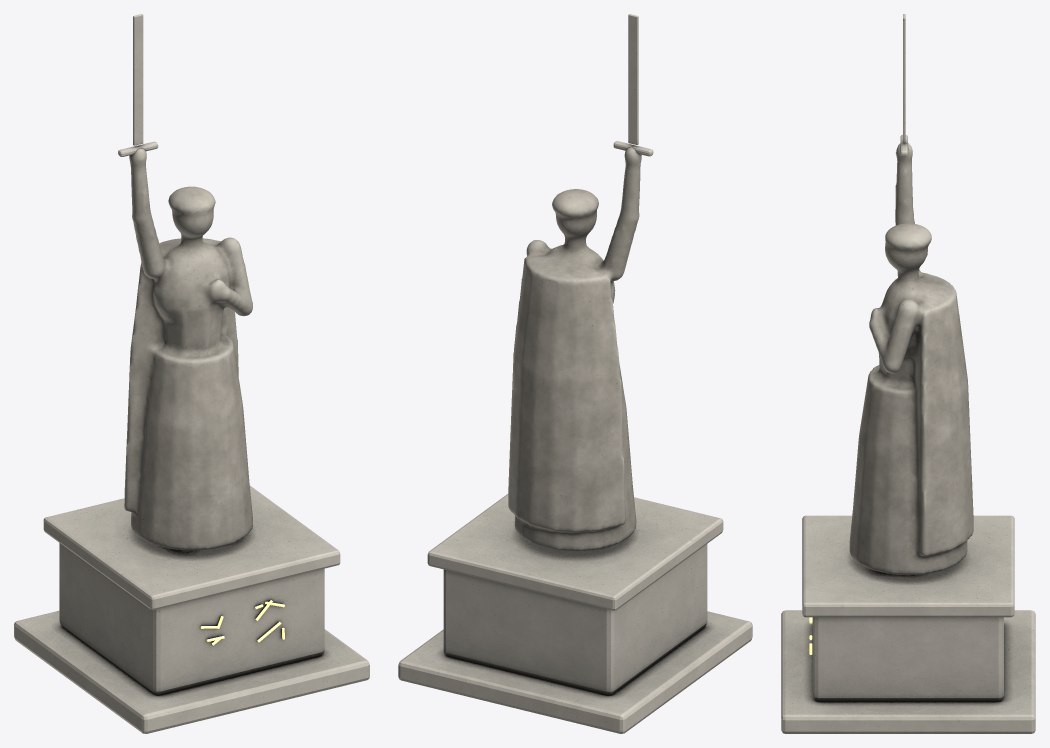
File: acropole_estatua_juramento.glb
The picture shows the model from 3 angles, left to right: view 1: azimuth 30°, elevation 25°; view 2: azimuth 150°, elevation 25°; view 3: azimuth 270°, elevation 25°; orthographic projection. The views are drawn at different scales.
Parts seen in each view (by area): view 1: acropole_estatua_juramento_tronco; view 2: acropole_estatua_juramento_tronco; view 3: acropole_estatua_juramento_tronco.
Boxes of the visible parts, bbox=[...] form: acropole_estatua_juramento_tronco: bbox=[14, 14, 369, 733]; acropole_estatua_juramento_tronco: bbox=[398, 14, 752, 733]; acropole_estatua_juramento_tronco: bbox=[781, 14, 1035, 733].
Bounding box in the file's own units: 2.4 × 6.65 × 2.4.
10 materials, 1 textured.
